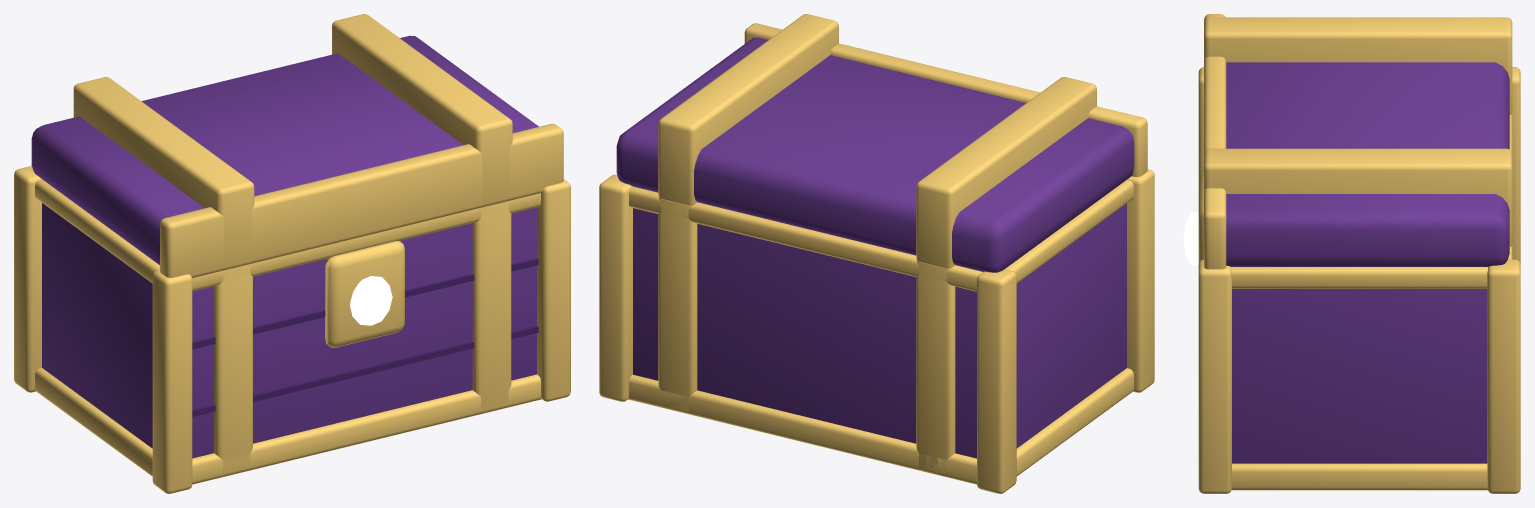
The model's file is kist.glb.
The picture shows the model from 3 angles, left to right: view 1: azimuth 30°, elevation 25°; view 2: azimuth 150°, elevation 25°; view 3: azimuth 270°, elevation 25°; orthographic projection. The views are drawn at different scales.
Visible parts, largest first — view 1: k_romp, k_deksel, k_gem; view 2: k_romp, k_deksel; view 3: k_deksel, k_romp, k_gem.
Boxes of the visible parts, x1,y1,x2,y2 form: k_romp: (14, 166, 570, 493); k_deksel: (31, 14, 563, 278); k_gem: (350, 276, 392, 325); k_romp: (599, 169, 1154, 493); k_deksel: (616, 14, 1147, 272); k_deksel: (1204, 14, 1512, 269); k_romp: (1198, 67, 1520, 493); k_gem: (1183, 212, 1198, 265).
Size of the model in its own units: 1.76 by 1.2 by 1.21.
